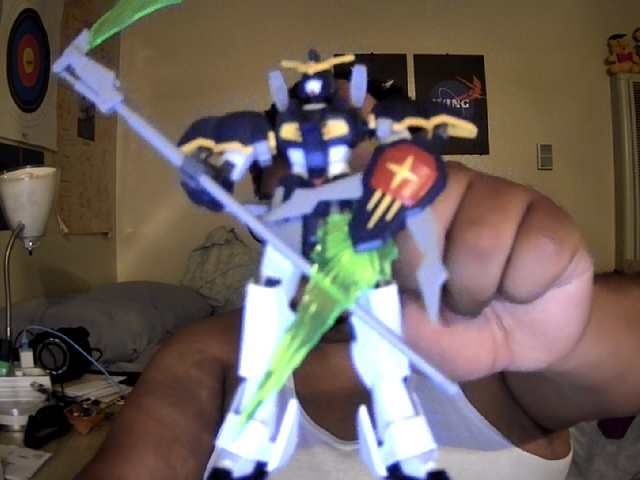Deathsythe: (179, 48, 479, 480)
